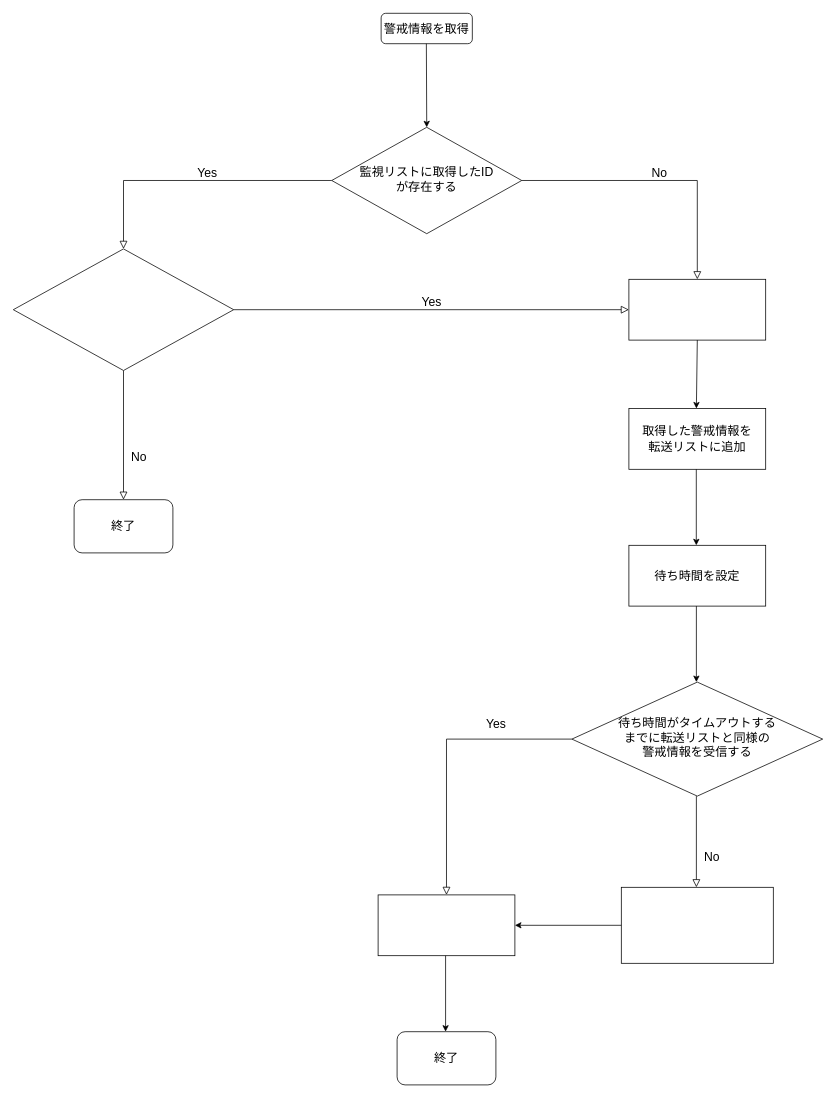
Image size: 836x1098. Some labels were removed from this diagram. Here are the shapes that lost their labels. From the top down, the box of each, then its label:
(13, 248, 234, 370): 取得した警戒情報に 含まれる警戒値が 追加リストに含まれる 警戒値より大きい
(628, 279, 766, 340): 監視リストに取得した 警戒情報を追加する
(377, 894, 515, 956): 転送リストを削除
(621, 887, 773, 963): 転送リストに自車両の位置情報と、進行方向を加えてブロードキャスト
